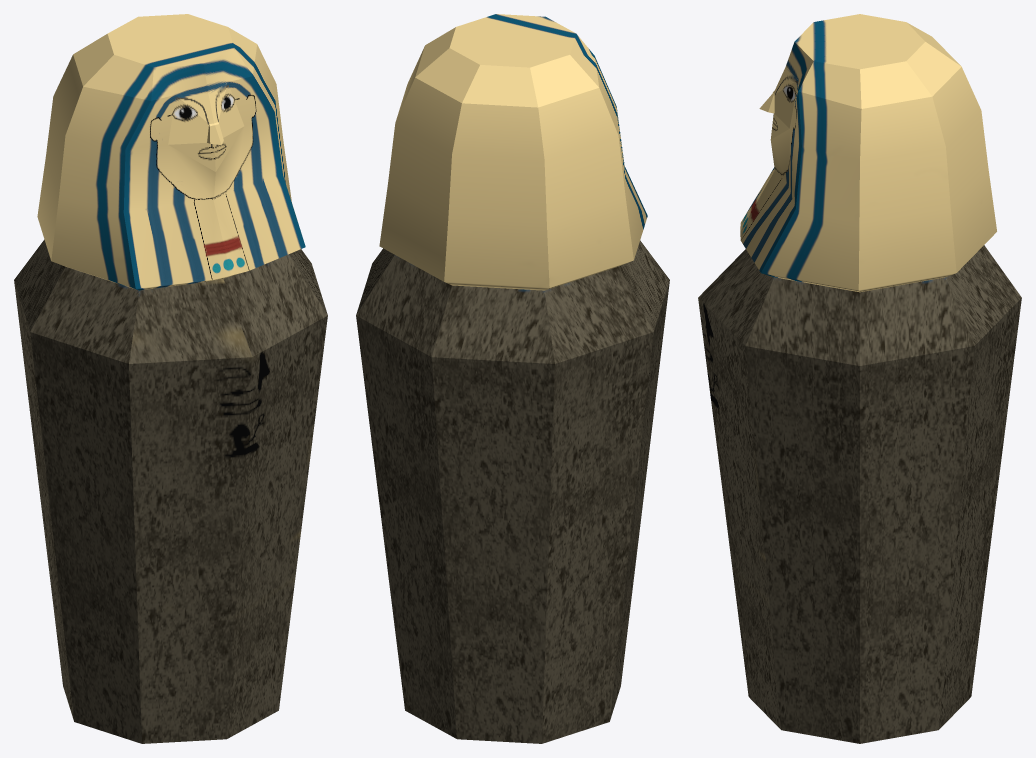
File: canopicjar_isis_texture.glb
The picture shows the model from 3 angles, left to right: view 1: azimuth 30°, elevation 25°; view 2: azimuth 150°, elevation 25°; view 3: azimuth 270°, elevation 25°; orthographic projection.
Parts seen in each view (by area): view 1: canopicjar_isis CANOPIC_JARS; view 2: canopicjar_isis CANOPIC_JARS; view 3: canopicjar_isis CANOPIC_JARS.
Boxes of the visible parts, x1,y1,x2,y2 form: canopicjar_isis CANOPIC_JARS: (14,14,327,743); canopicjar_isis CANOPIC_JARS: (356,14,669,743); canopicjar_isis CANOPIC_JARS: (698,14,1021,743).
Bounding box in the file's own units: 2.91 × 6.49 × 2.91.
Materials: 1 (1 with a texture image).
